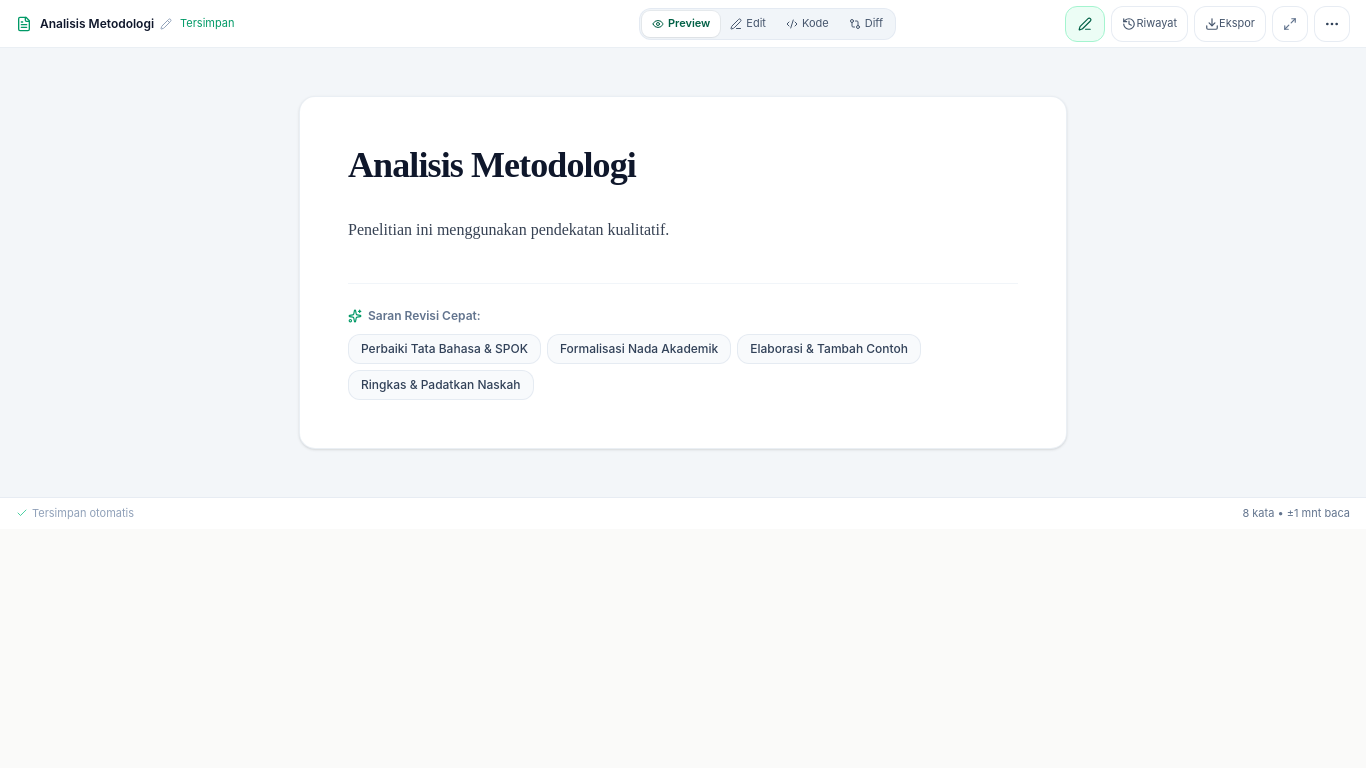
Test: Workspace Canvas 2.0 UX & Behavior › opens Version History modal with version snapshots and preview/diff options
This screenshot has width=1366, height=768.
# Open version history
Click the button named "Menu Opsi Lainnya" at (1332, 24), box [1314,6,1350,42]
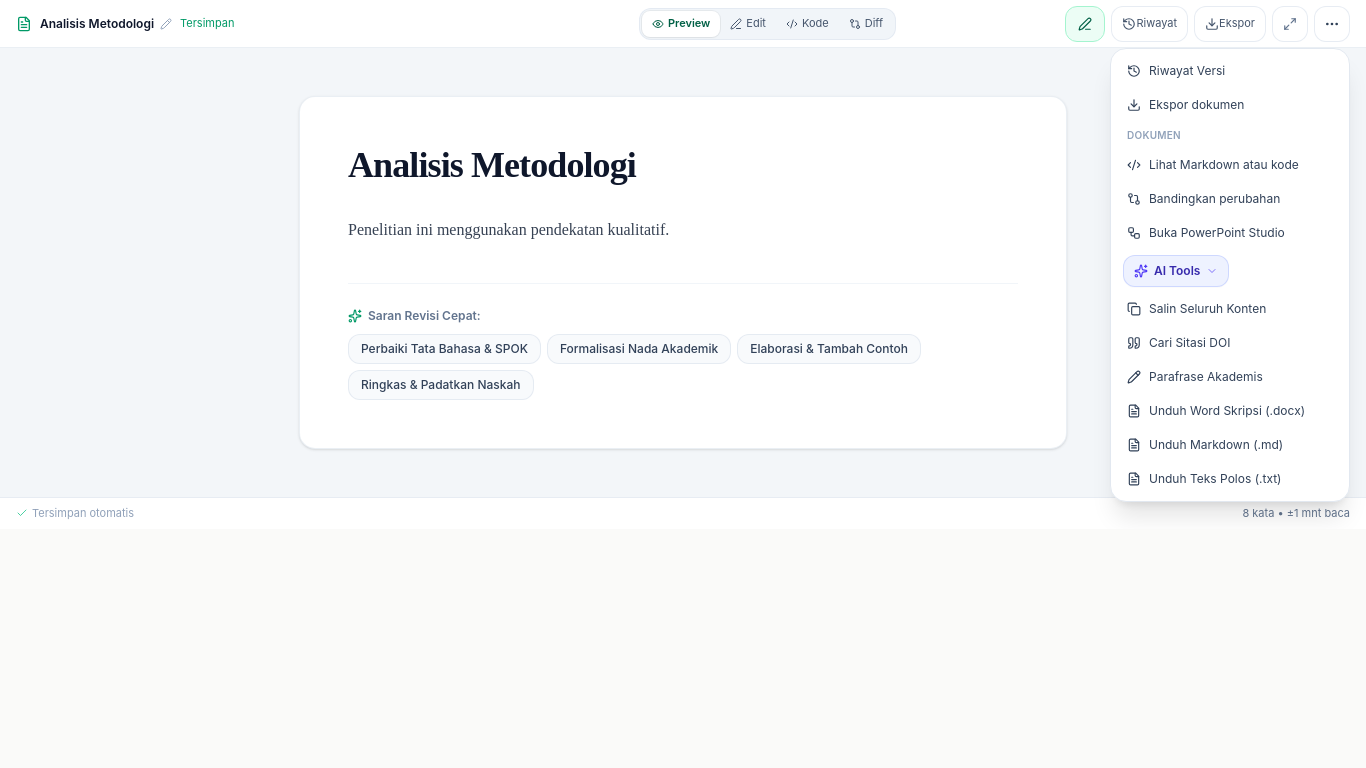
Click the button "Riwayat Versi" at (1230, 70), box [1117,54,1343,86]
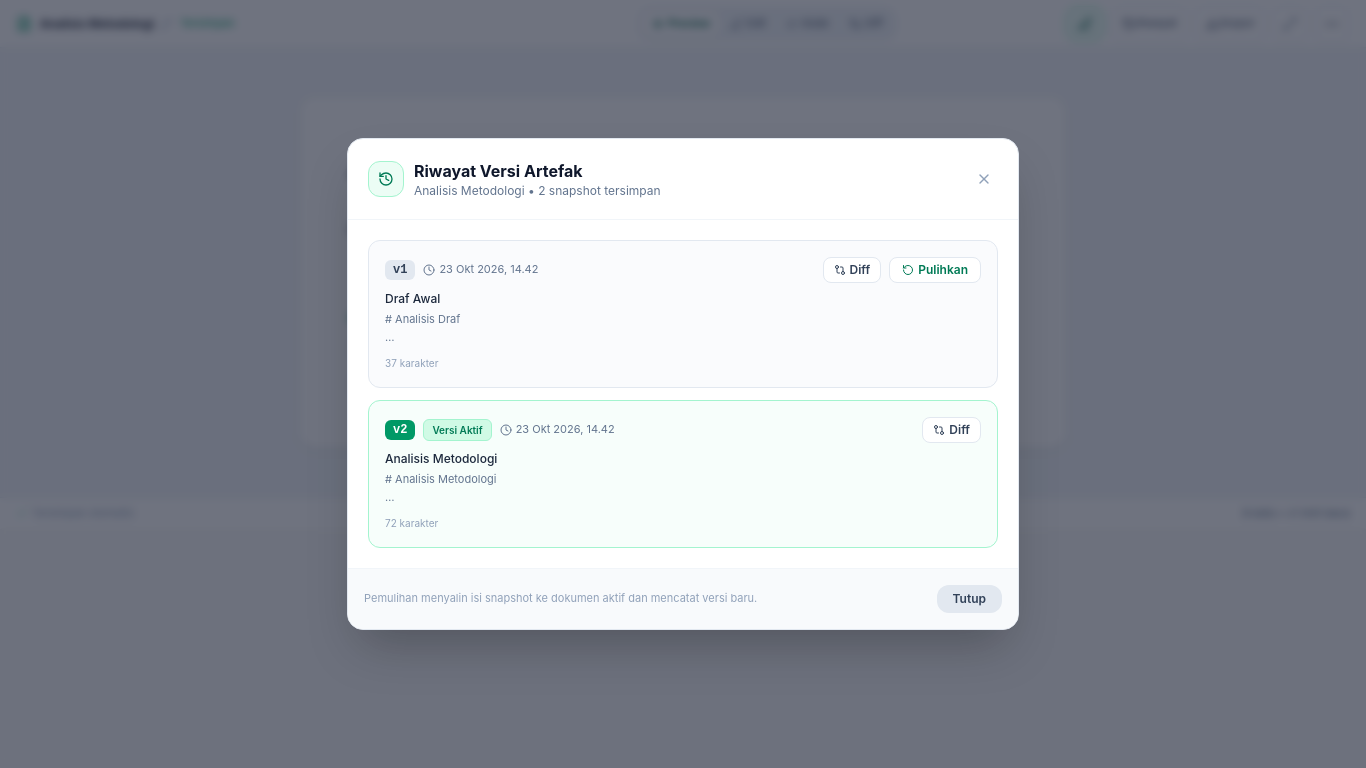
Expected: the heading "Riwayat Versi Artefak" is shown, [414,161,583,181]
Expected: the text "v1" is shown, [385,260,415,280]
Expected: the text "Draf Awal" is shown, [385,291,440,306]
